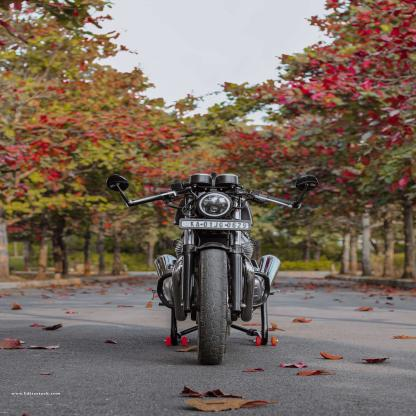bike: (94, 172, 324, 361)
